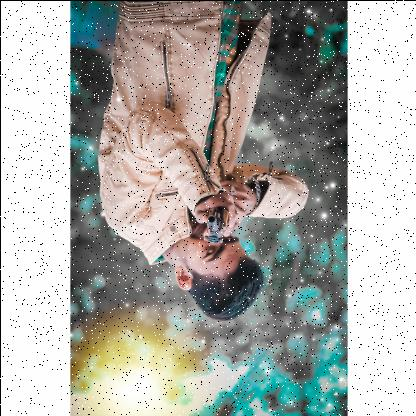rifle: (202, 204, 230, 244)
